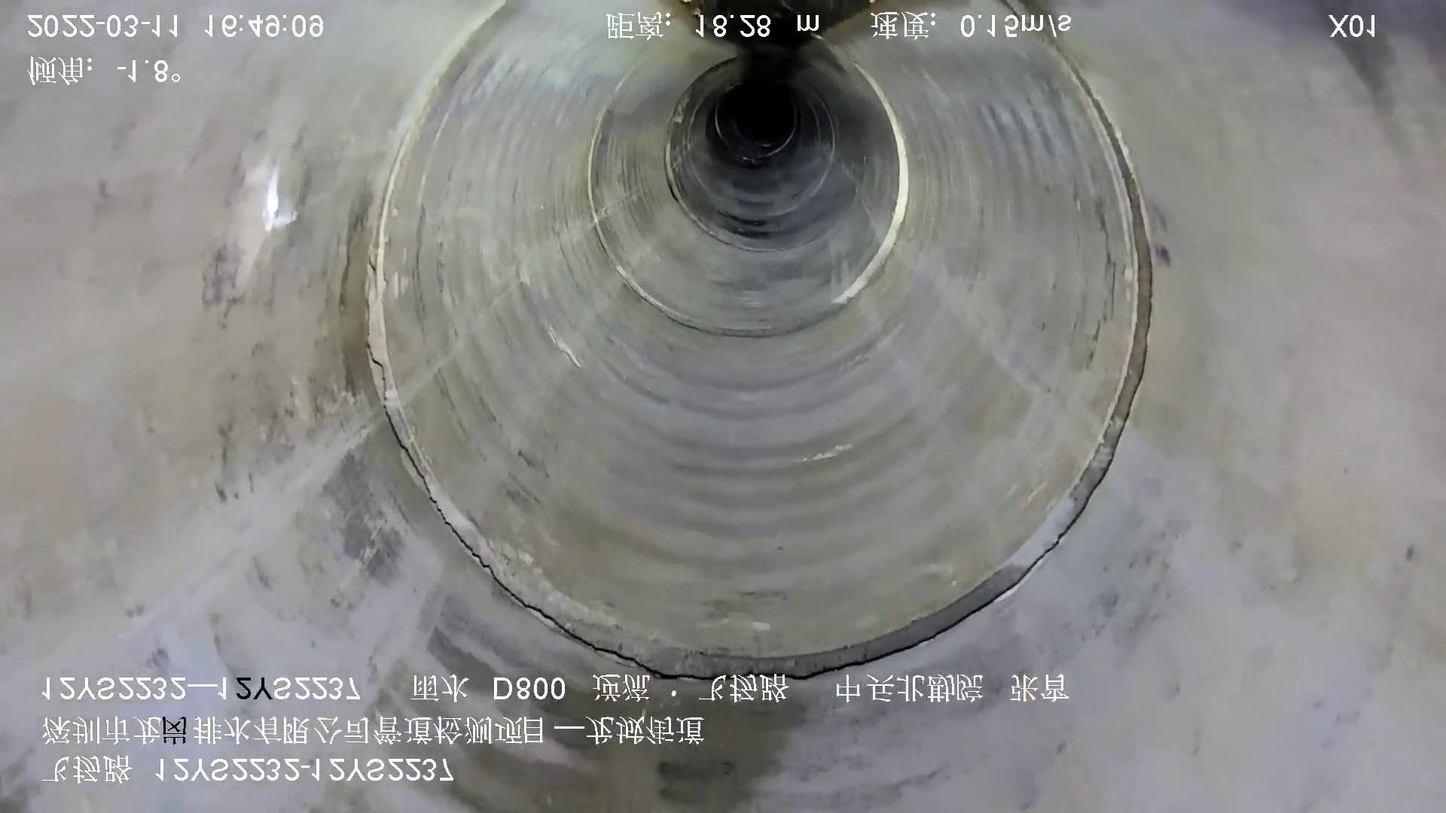CKTJ: (365, 39, 1152, 680)
